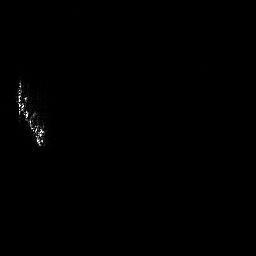ship: (16, 78, 47, 147)
